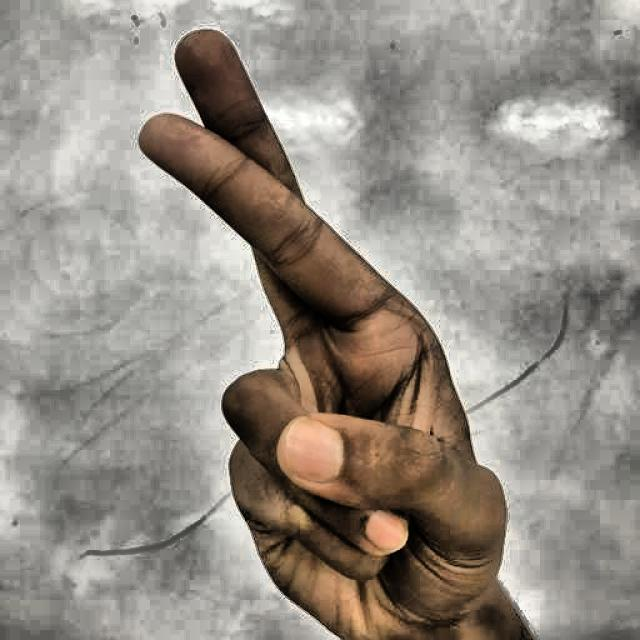Ra: (94, 14, 528, 640)
